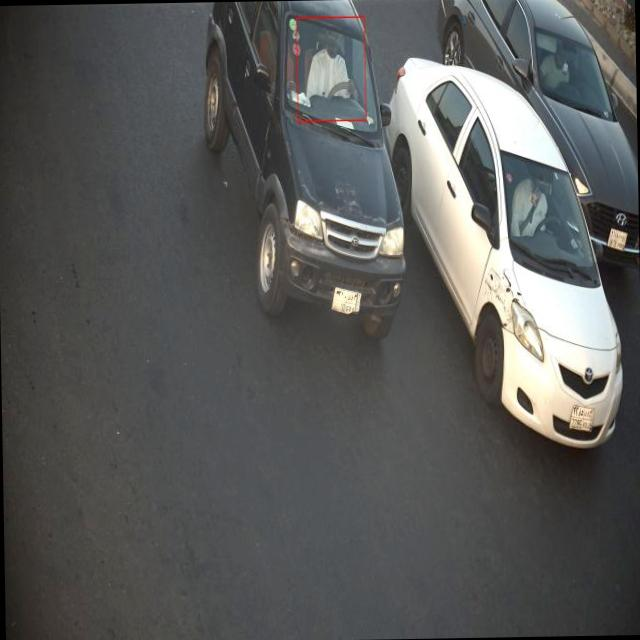person_with_seatbelt: (514, 164, 576, 256)
person_without_seatbelt: (303, 35, 372, 119), (543, 52, 586, 102)
